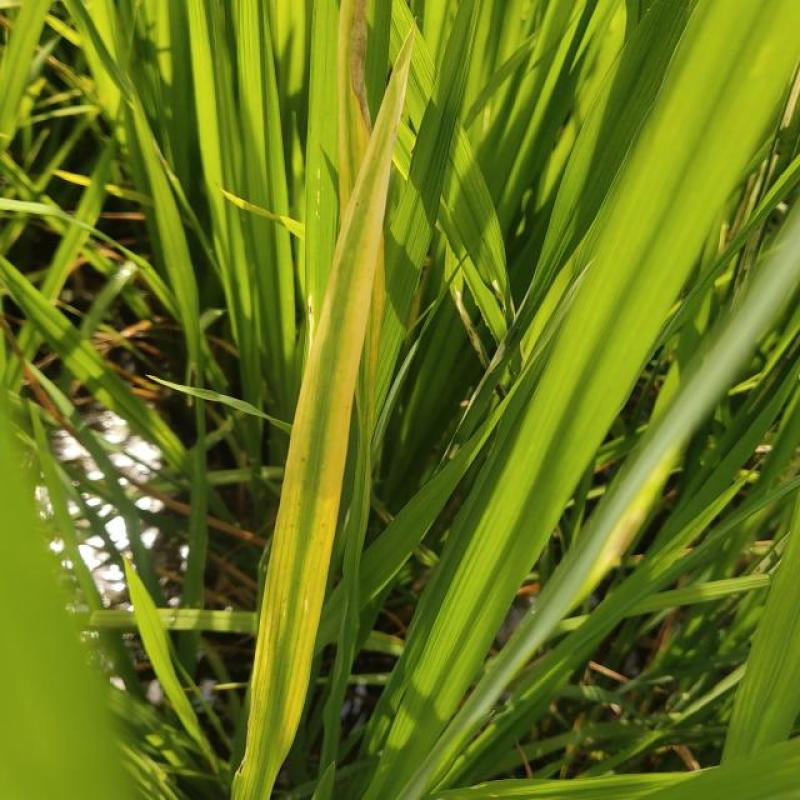Rice Tungro: (224, 28, 458, 766)
